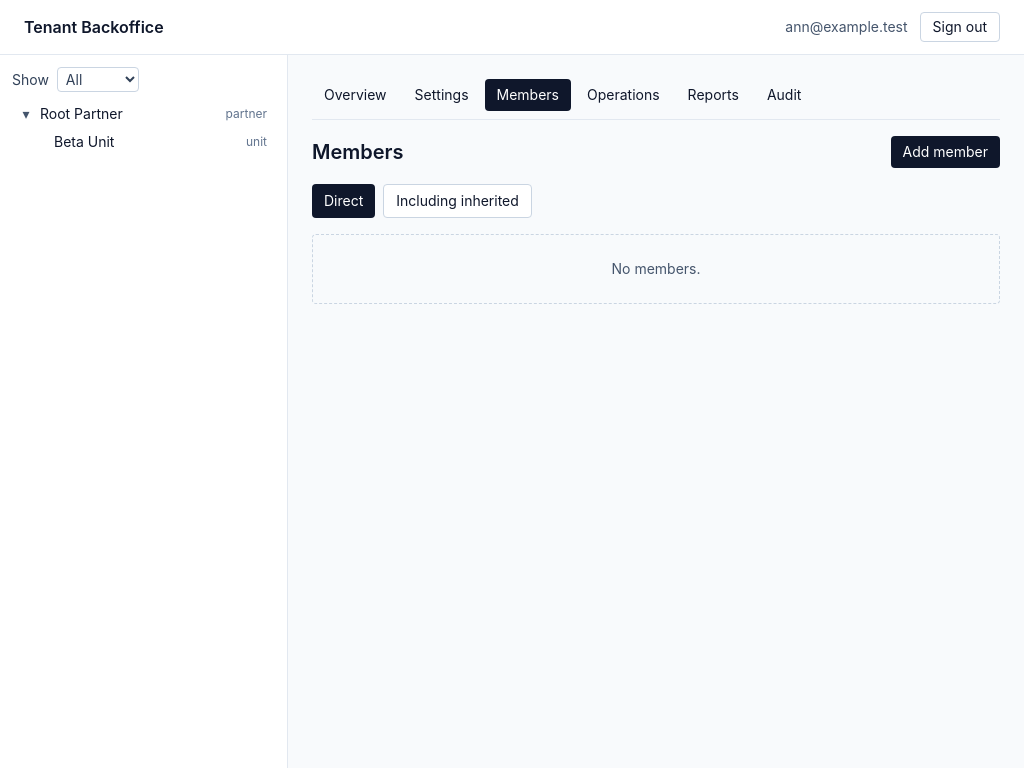
it: members › adds a member with an initial password: password field, no echo, not in the URL, cleared afterwards
Click the button "Add member" at (945,152), box left=891, top=136, right=1000, bottom=168
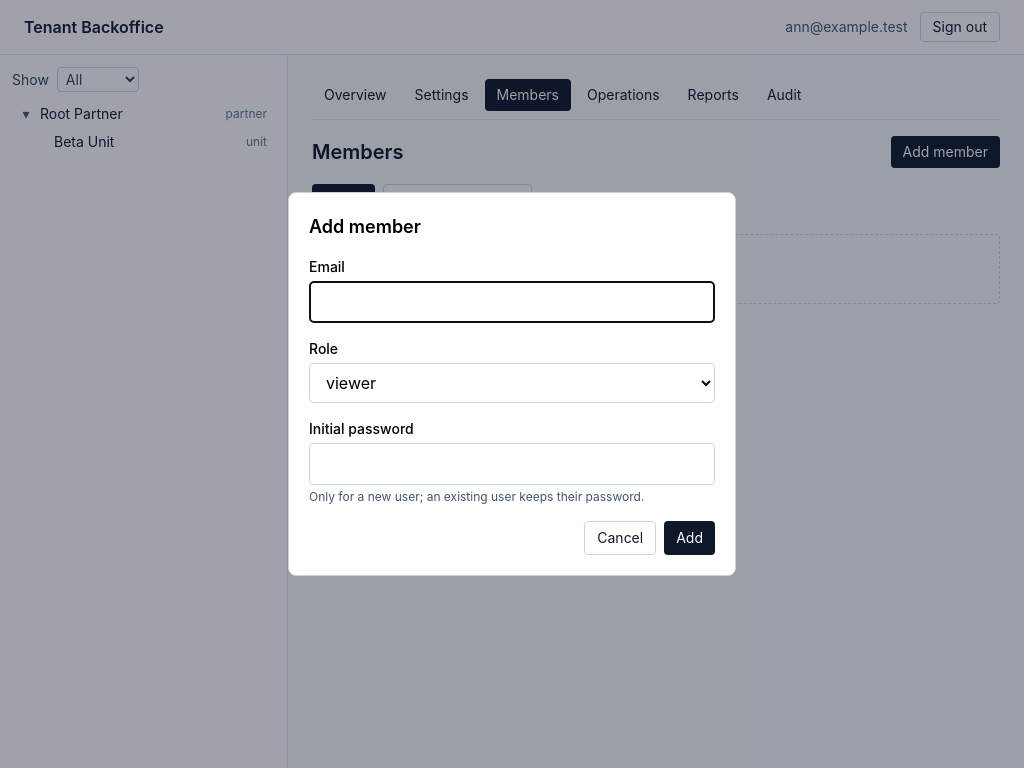
Type " new@example.test " into the field labelled "Email" at (512,302), box left=309, top=281, right=715, bottom=323
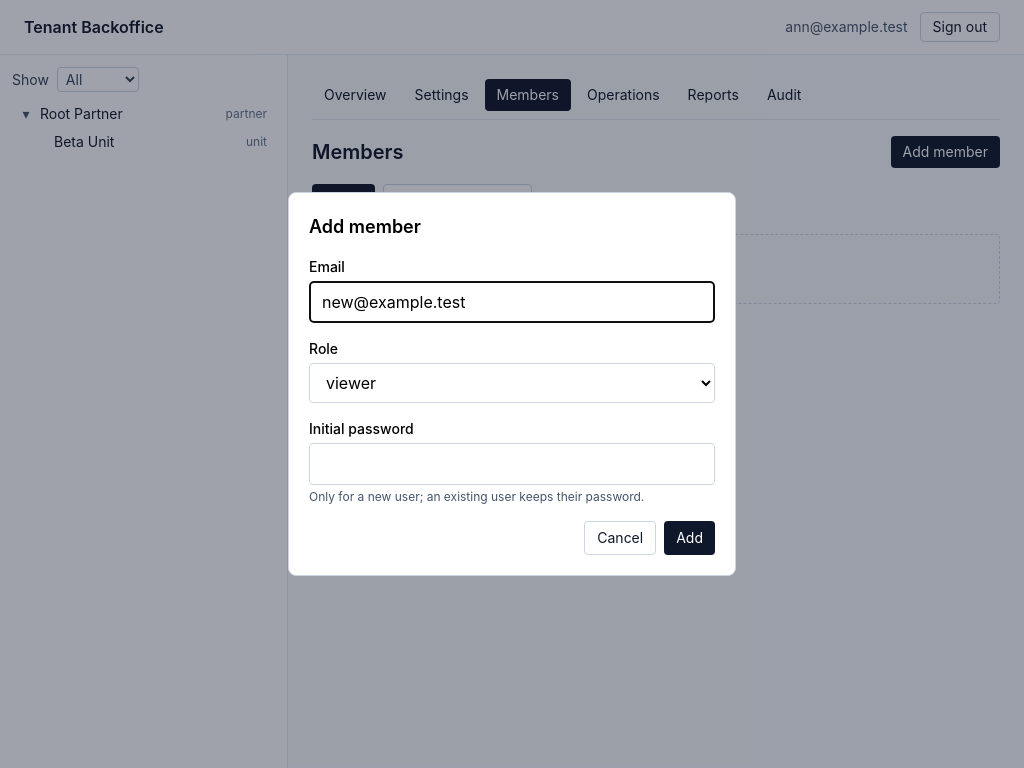
Type "correct horse battery" into the password field labelled "Initial password" at (512,464), box left=309, top=443, right=715, bottom=485
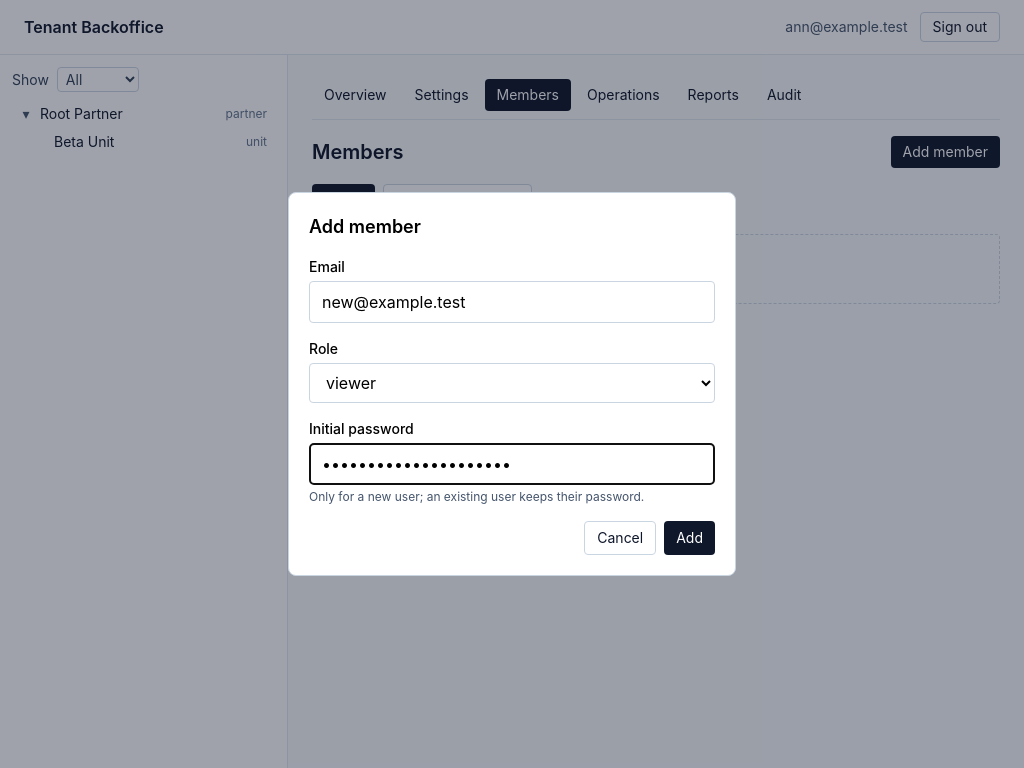
Click the submit button at (690,538), box left=664, top=521, right=715, bottom=555
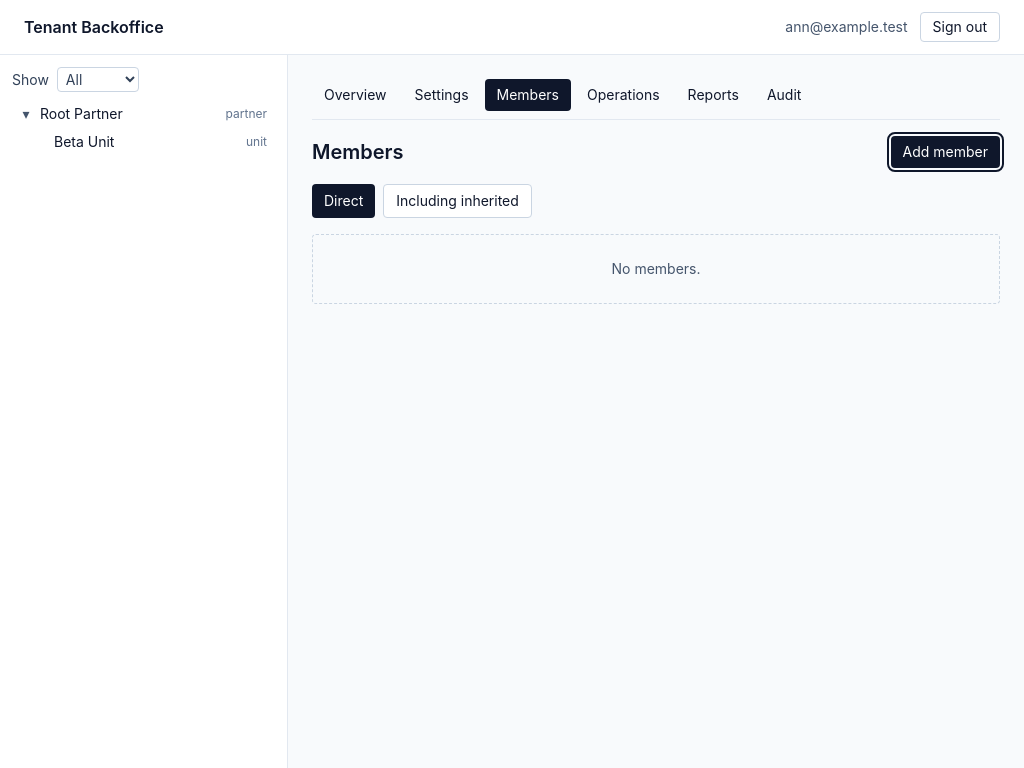
Result: the label labelled "Initial password" is gone
